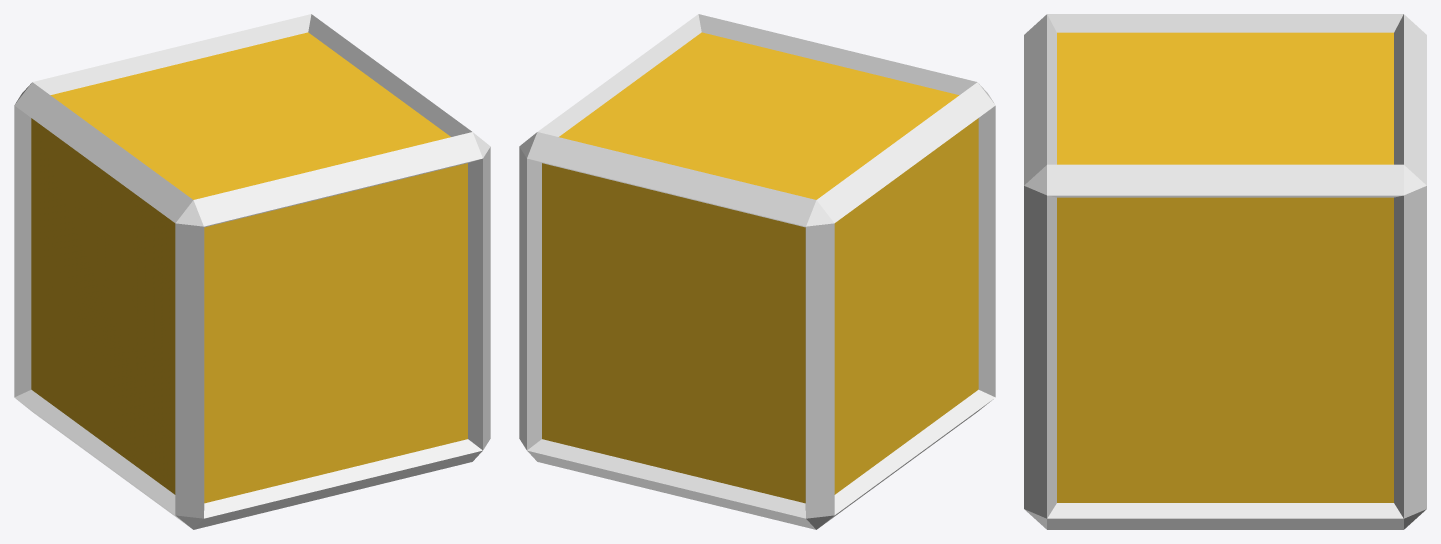
The model's file is SodiumCell.fbx.
3 renders of one model, left to right at view 1: azimuth 30°, elevation 25°; view 2: azimuth 150°, elevation 25°; view 3: azimuth 270°, elevation 25°, orthographic. The views are drawn at different scales.
Parts seen in each view (by area): view 1: SodiumCell; view 2: SodiumCell; view 3: SodiumCell.
Part boxes in pixels (x1,y1,x2,y2): SodiumCell: [14, 14, 490, 529]; SodiumCell: [519, 14, 995, 529]; SodiumCell: [1024, 14, 1426, 529].
Size of the model in its own units: 41.89 by 41.89 by 41.89.
